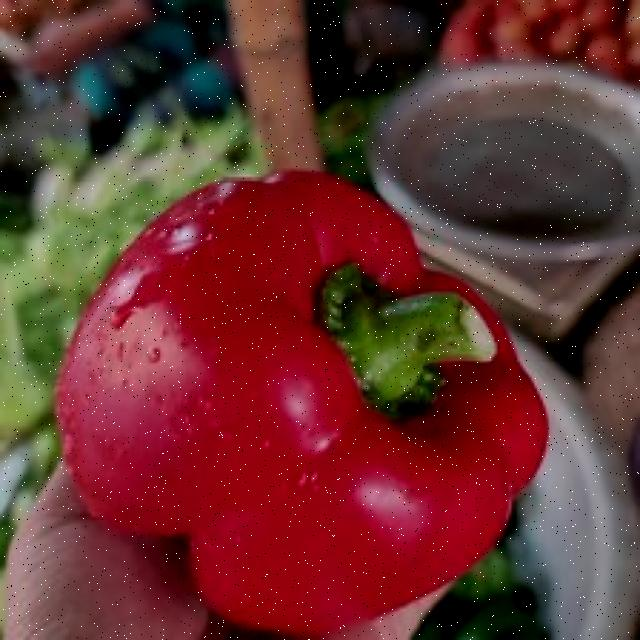Bell Pepper: (0, 125, 640, 634)
